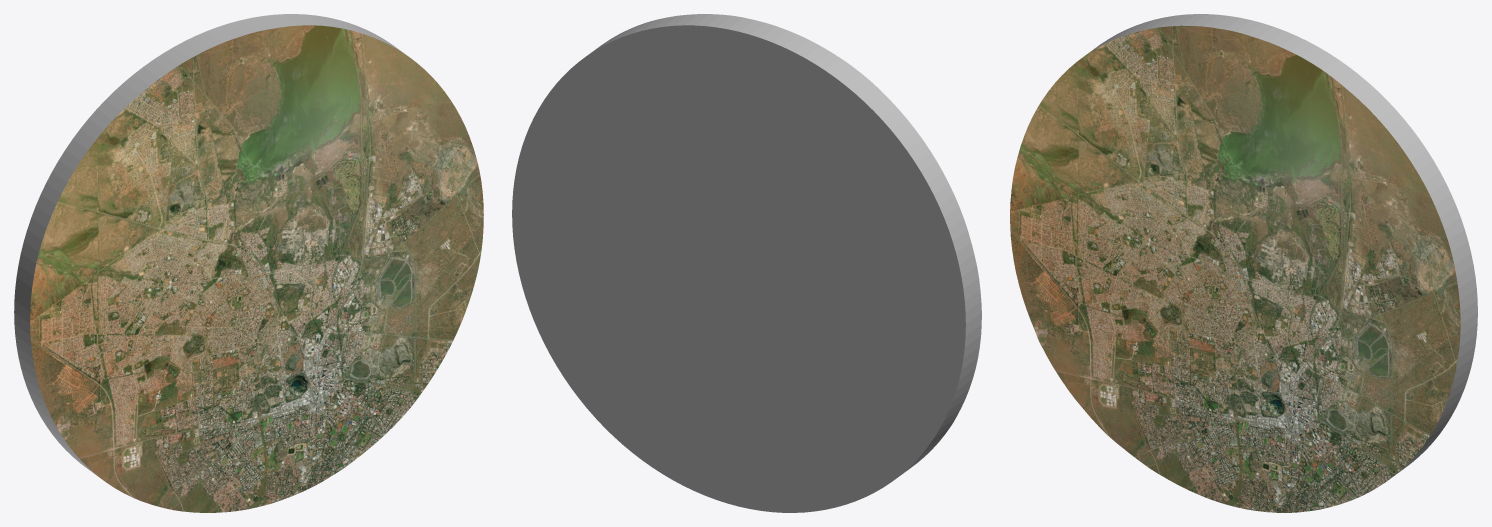
The model's file is kimberley.glb.
3 renders of one model, left to right at view 1: azimuth 30°, elevation 25°; view 2: azimuth 150°, elevation 25°; view 3: azimuth 330°, elevation 25°, orthographic.
Size of the model in its own units: 200 by 200 by 14.33.
2 materials, 1 textured.
